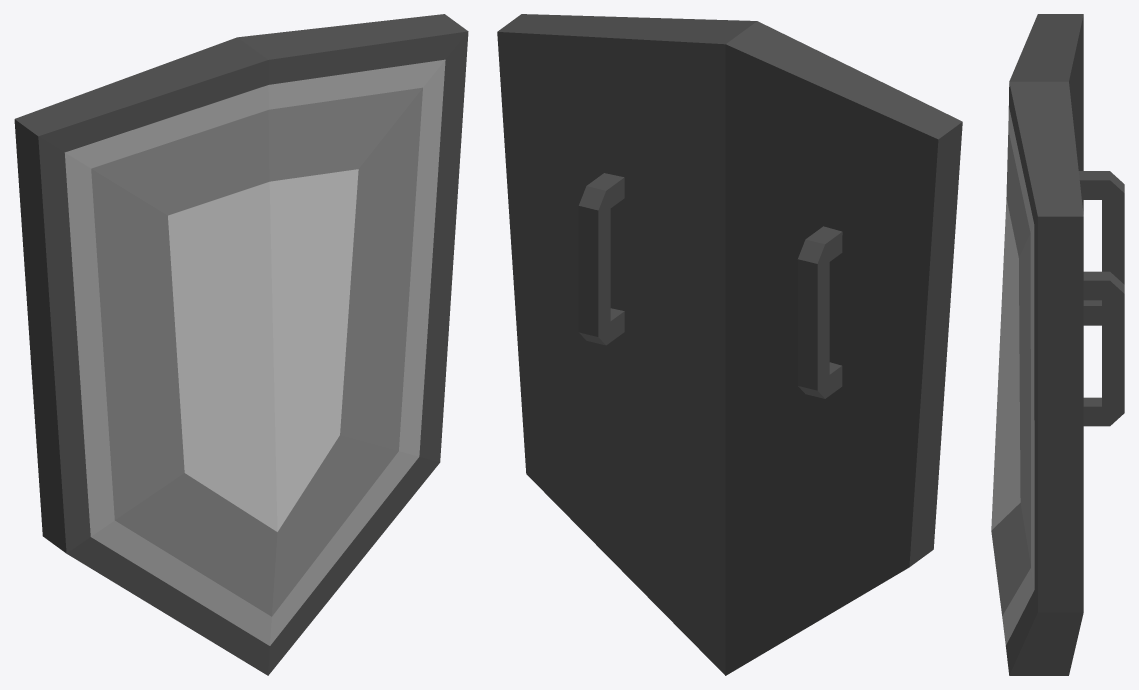
File: Shield_2.fbx
3 renders of one model, left to right at view 1: azimuth 30°, elevation 25°; view 2: azimuth 150°, elevation 25°; view 3: azimuth 270°, elevation 25°, orthographic. The views are drawn at different scales.
Parts seen in each view (by area): view 1: Shield_2; view 2: Shield_2; view 3: Shield_2.
Boxes of the visible parts, <box> form: Shield_2: <box>14,14,468,675</box>; Shield_2: <box>497,14,962,675</box>; Shield_2: <box>991,14,1124,675</box>.
Bounding box in the file's own units: 34.08 × 46.63 × 9.49.
1 material, 1 textured.
